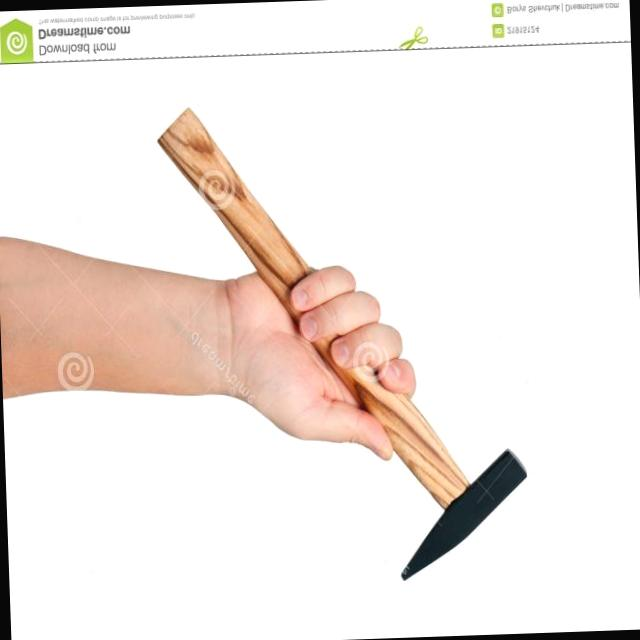hammer: (313, 341, 526, 580), (159, 110, 308, 320)
